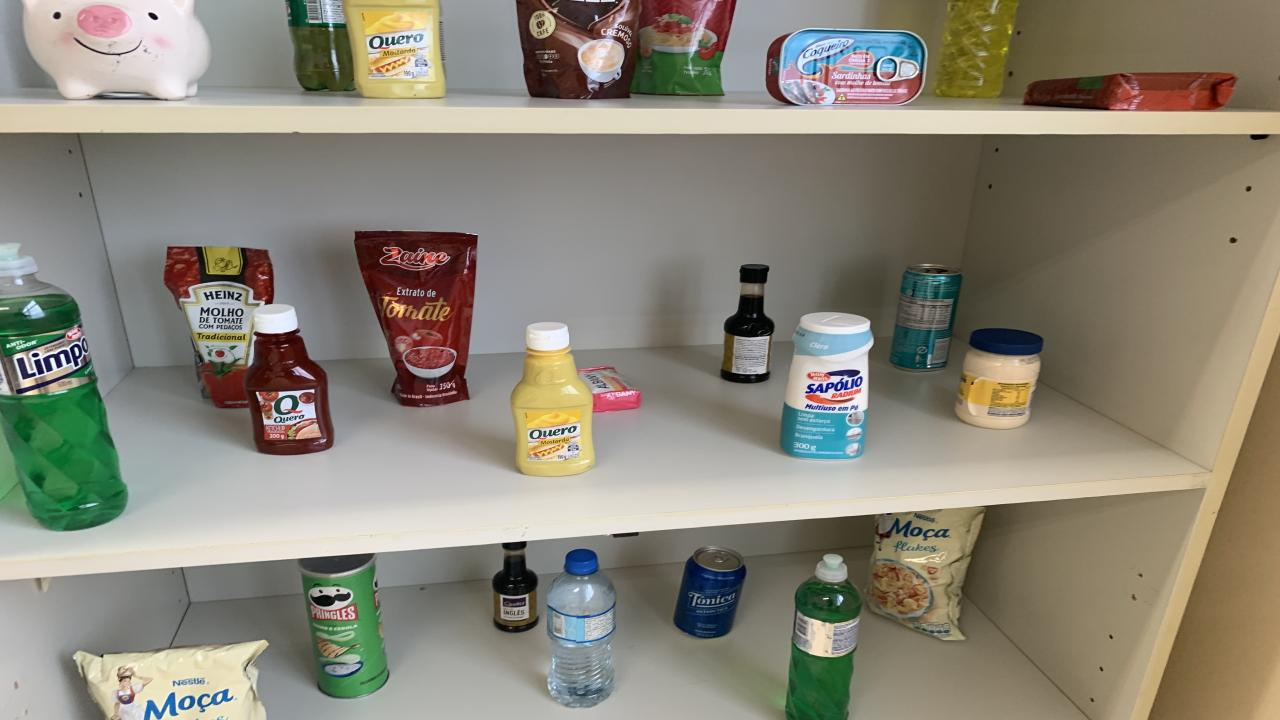Cleaner-Cleanup_Items: (780, 311, 875, 459)
Coffee-Pantry_Items: (515, 0, 640, 99)
Detergent-Cleanup_Items: (0, 244, 128, 531), (785, 553, 862, 720), (935, 0, 1018, 98)
English_Sauce-Pantry_Items: (720, 264, 775, 382), (492, 542, 538, 632)
Flakes-Snacks: (865, 506, 985, 641), (72, 641, 268, 720)
Guarana-Drinks: (285, 0, 355, 92)
Guava-Snacks: (1022, 73, 1238, 111)
Ketchup-Pantry_Items: (242, 304, 332, 456)
Mayonnaise-Pantry_Items: (955, 328, 1042, 429)
Mustard-Pantry_Items: (510, 322, 595, 476), (342, 0, 445, 98)
Pig_Safe-Miscellaneous: (22, 0, 210, 99)
Pringles-Snacks: (300, 555, 388, 698)
Soap-Cleanup_Items: (578, 366, 642, 412)
Tea-Drinks: (890, 264, 962, 371)
Tomato_Sauce-Pantry_Items: (355, 231, 478, 407), (165, 246, 272, 407), (630, 0, 735, 96)
Tonic-Drinks: (675, 548, 745, 638)
Tuna_Can-Pantry_Items: (765, 28, 928, 105)
Water_Bottle-Drinks: (548, 549, 618, 707)
